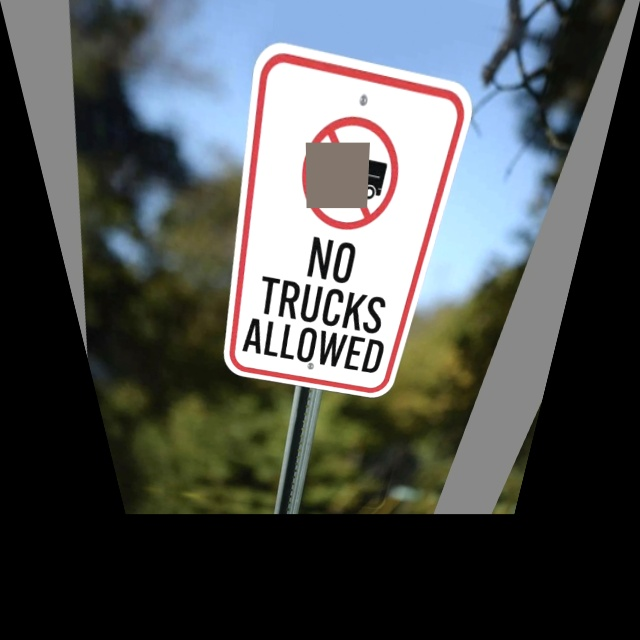Truck_Prohibited: (272, 86, 448, 251)
